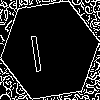I: (25, 25, 45, 73)
